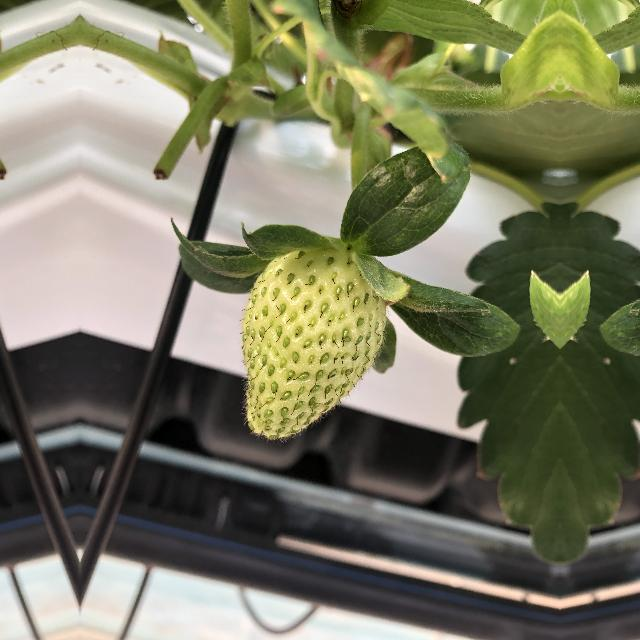Health_25: (231, 229, 403, 446)
